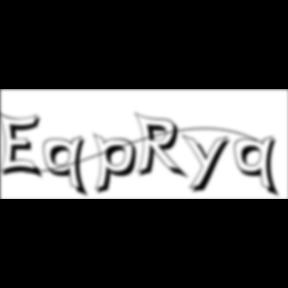E: (0, 110, 48, 182)
R: (134, 112, 192, 182)
p: (94, 132, 144, 198)
q: (234, 135, 284, 200), (44, 135, 92, 200)
y: (182, 132, 236, 196)
